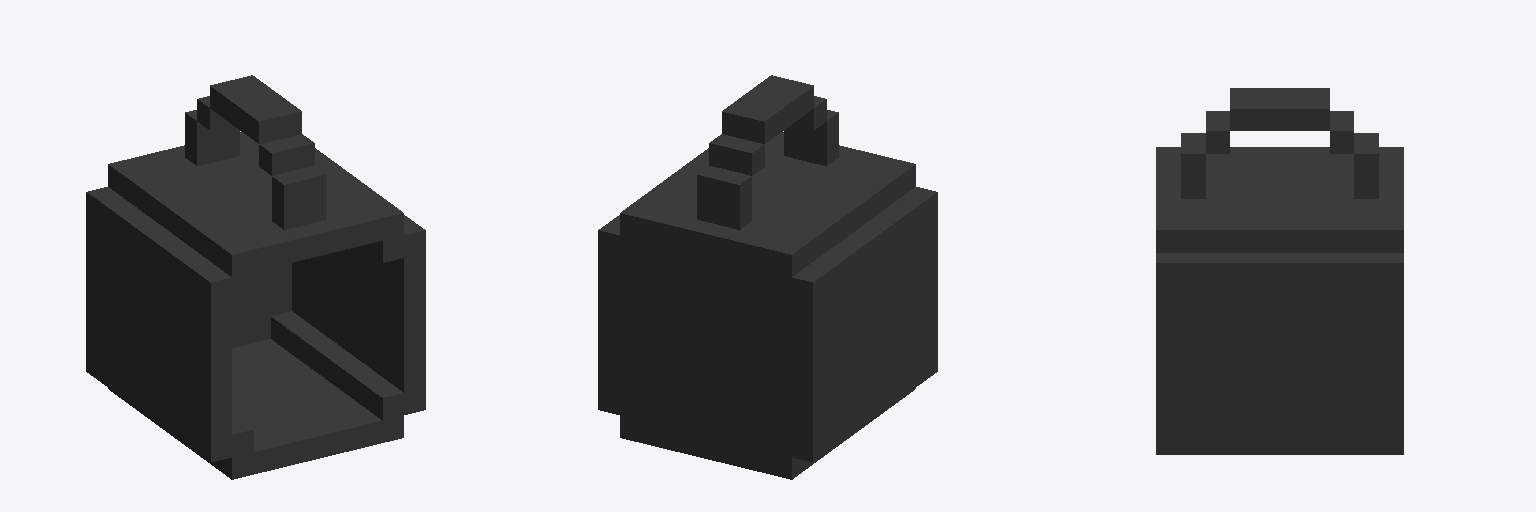
3 renders of one model, left to right at view 1: azimuth 30°, elevation 25°; view 2: azimuth 150°, elevation 25°; view 3: azimuth 270°, elevation 25°, orthographic.
Visible parts, largest first — view 1: object 1; view 2: object 1; view 3: object 1.
Part boxes in pixels (bbox=[...]): object 1: bbox=[86, 75, 425, 479]; object 1: bbox=[598, 75, 937, 479]; object 1: bbox=[1156, 88, 1403, 454].
Bounding box in the file's own units: 1 × 1.4 × 1.
1 materials, 1 textured.